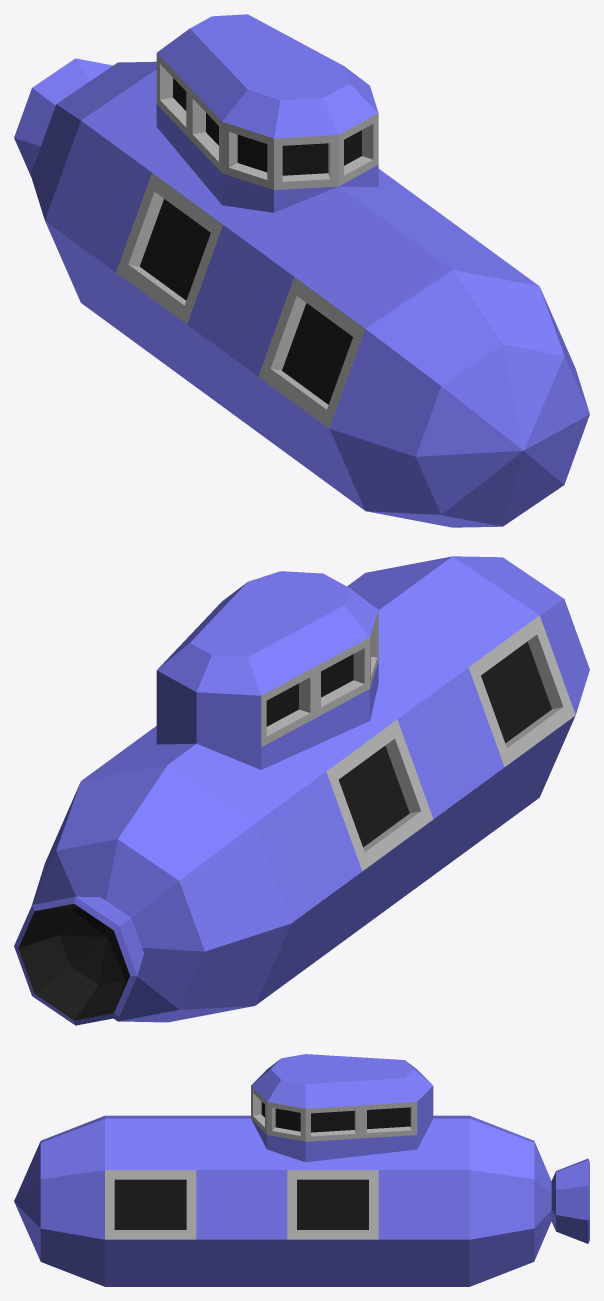
File: Submarine.fbx
The picture shows the model from 3 angles, top to bottom: view 1: azimuth 30°, elevation 25°; view 2: azimuth 150°, elevation 25°; view 3: azimuth 270°, elevation 25°; orthographic projection. The views are drawn at different scales.
Parts seen in each view (by area): view 1: Sphere.008; view 2: Sphere.008; view 3: Sphere.008.
Part boxes in pixels (x1,y1,x2,y2): Sphere.008: (14, 14, 589, 527); Sphere.008: (14, 556, 589, 1025); Sphere.008: (14, 1054, 589, 1286).
Size of the model in its own units: 10 by 13 by 31.6.
